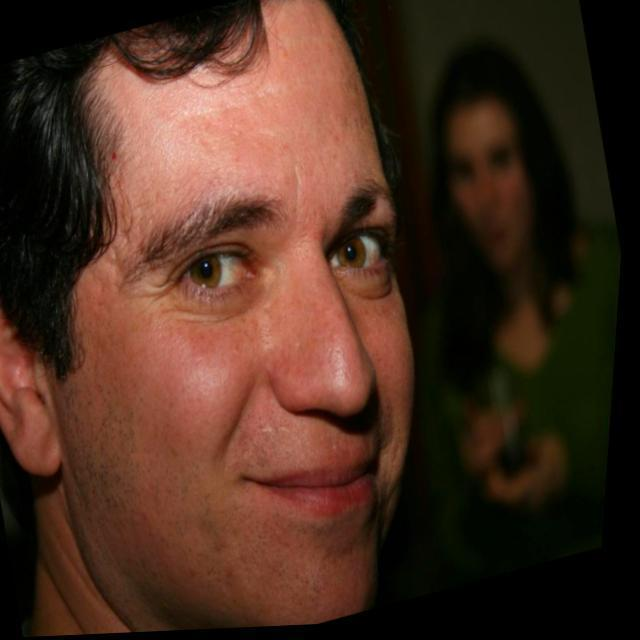puffy_eyes: (183, 285, 273, 332), (338, 265, 396, 303)
